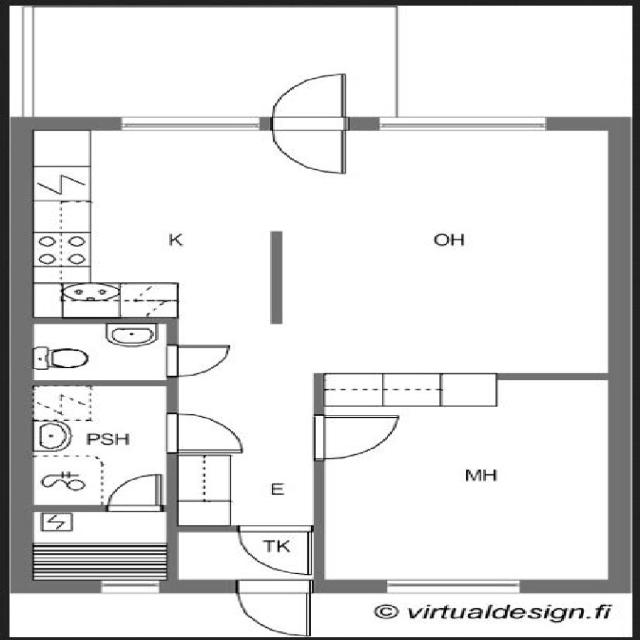door: (262, 69, 351, 176), (305, 406, 405, 463), (154, 404, 251, 462), (229, 578, 319, 636), (152, 337, 241, 381), (100, 470, 166, 515)
window: (363, 111, 558, 136), (110, 112, 268, 136), (378, 574, 524, 597), (92, 579, 166, 600)
zone: (276, 125, 626, 382), (316, 376, 623, 590), (23, 126, 282, 317), (24, 381, 172, 508), (20, 505, 174, 595), (19, 320, 174, 383), (319, 374, 499, 408), (228, 577, 320, 638), (230, 521, 319, 580)
